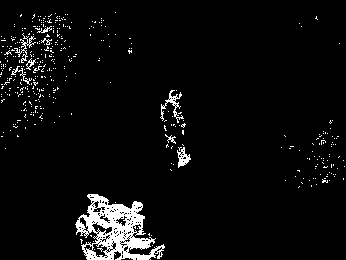person: (161, 91, 191, 168)
